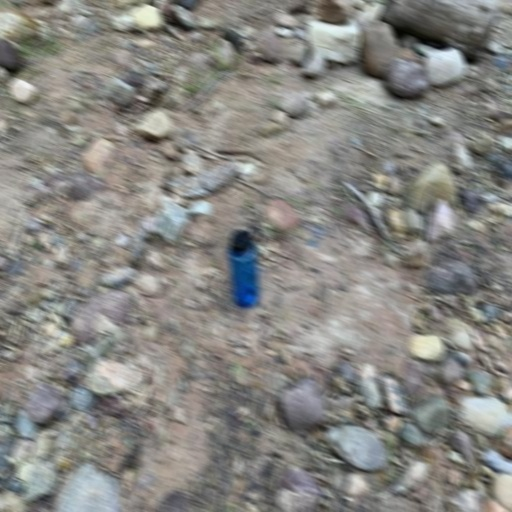bottle: (228, 227, 260, 307)
